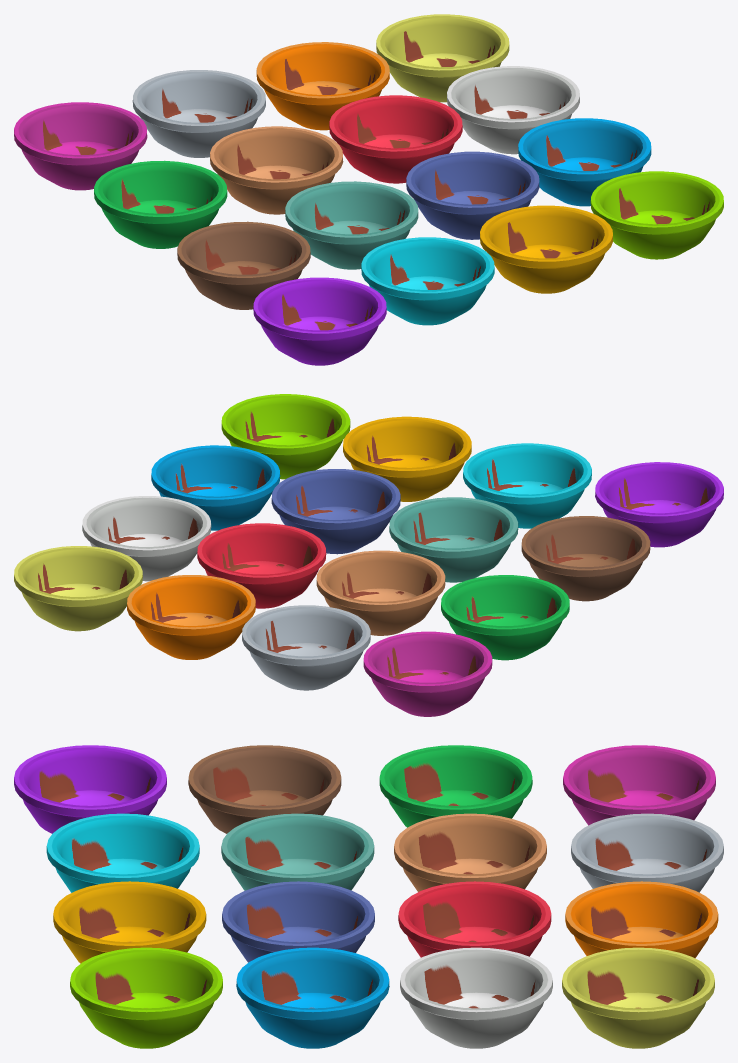
The model's file is Bowls.fbx.
The picture shows the model from 3 angles, top to bottom: view 1: azimuth 30°, elevation 25°; view 2: azimuth 150°, elevation 25°; view 3: azimuth 270°, elevation 25°; orthographic projection. The views are drawn at different scales.
Visible parts, largest first — view 1: Bowl_16, Bowl_08, Bowl_13, Bowl_04, Bowl_14, Bowl_12, Bowl_06, Bowl_09, Bowl_15, Bowl_10, Bowl_11, Bowl_07 (+4 smaller); view 2: Bowl_12, Bowl_09, Bowl_05, Bowl_01, Bowl_15, Bowl_14, Bowl_10, Bowl_07, Bowl_16, Bowl_11, Bowl_13, Bowl_08 (+4 smaller); view 3: Bowl_03, Bowl_01, Bowl_02, Bowl_04, Bowl_15, Bowl_16, Bowl_14, Bowl_12, Bowl_13, Bowl_11, Bowl_09, Bowl_10 (+4 smaller).
Boxes of the visible parts, <box> form: Bowl_16: <box>253,277,386,365</box>; Bowl_08: <box>480,205,612,293</box>; Bowl_13: <box>361,237,494,325</box>; Bowl_04: <box>590,171,723,259</box>; Bowl_14: <box>94,160,227,248</box>; Bowl_12: <box>14,102,147,190</box>; Bowl_06: <box>329,95,462,183</box>; Bowl_09: <box>132,70,265,157</box>; Bowl_15: <box>177,221,310,309</box>; Bowl_10: <box>210,126,343,214</box>; Bowl_11: <box>285,181,418,269</box>; Bowl_07: <box>406,151,539,239</box>; Bowl_12: <box>363,631,492,716</box>; Bowl_09: <box>242,605,370,690</box>; Bowl_05: <box>127,575,255,659</box>; Bowl_01: <box>14,546,142,631</box>; Bowl_15: <box>521,516,650,601</box>; Bowl_14: <box>441,575,569,660</box>; Bowl_10: <box>316,550,445,635</box>; Bowl_07: <box>271,469,400,554</box>; Bowl_16: <box>595,462,723,547</box>; Bowl_11: <box>389,497,518,582</box>; Bowl_13: <box>463,443,591,528</box>; Bowl_08: <box>343,416,471,501</box>; Bowl_03: <box>236,947,389,1048</box>; Bowl_01: <box>562,947,714,1048</box>; Bowl_02: <box>400,947,552,1048</box>; Bowl_04: <box>70,947,222,1048</box>; Bowl_15: <box>188,745,341,833</box>; Bowl_16: <box>14,745,166,833</box>; Bowl_14: <box>379,745,532,827</box>; Bowl_12: <box>563,745,715,825</box>; Bowl_13: <box>46,813,199,892</box>; Bowl_11: <box>221,813,374,890</box>; Bowl_09: <box>571,813,723,892</box>; Bowl_10: <box>394,813,546,891</box>.
Size of the model in its own units: 885 by 85.8 by 994.
1 material, 1 textured.
